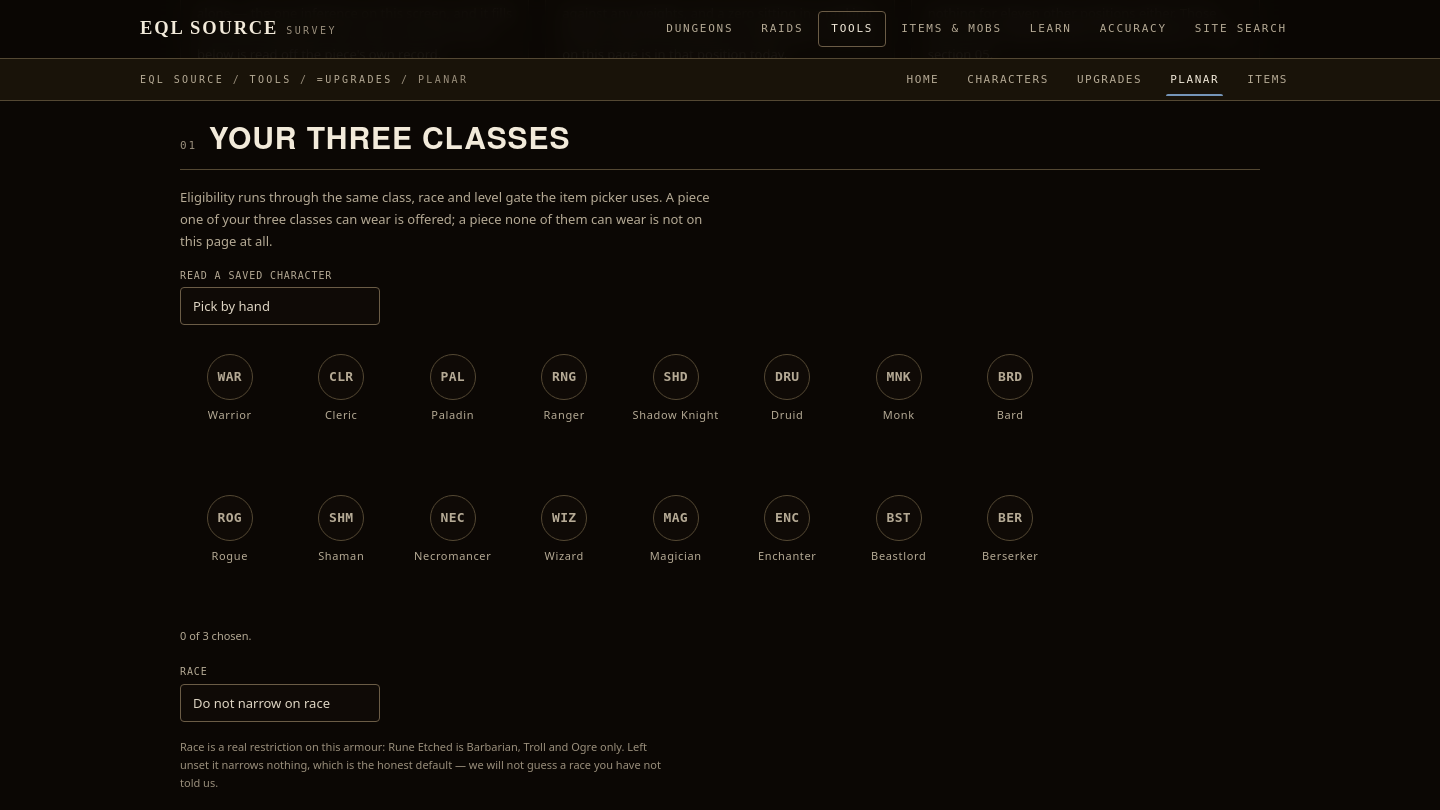
it: planar gear screen, against the shipped catalog › lets Wrist take two locks and drops the oldest at three
Later steps or results of the test are not shown.
(page scrolled)
Click the button with class "class-chip" showing "WAR Warrior": (230, 406) x1=180 y1=341 x2=280 y2=470
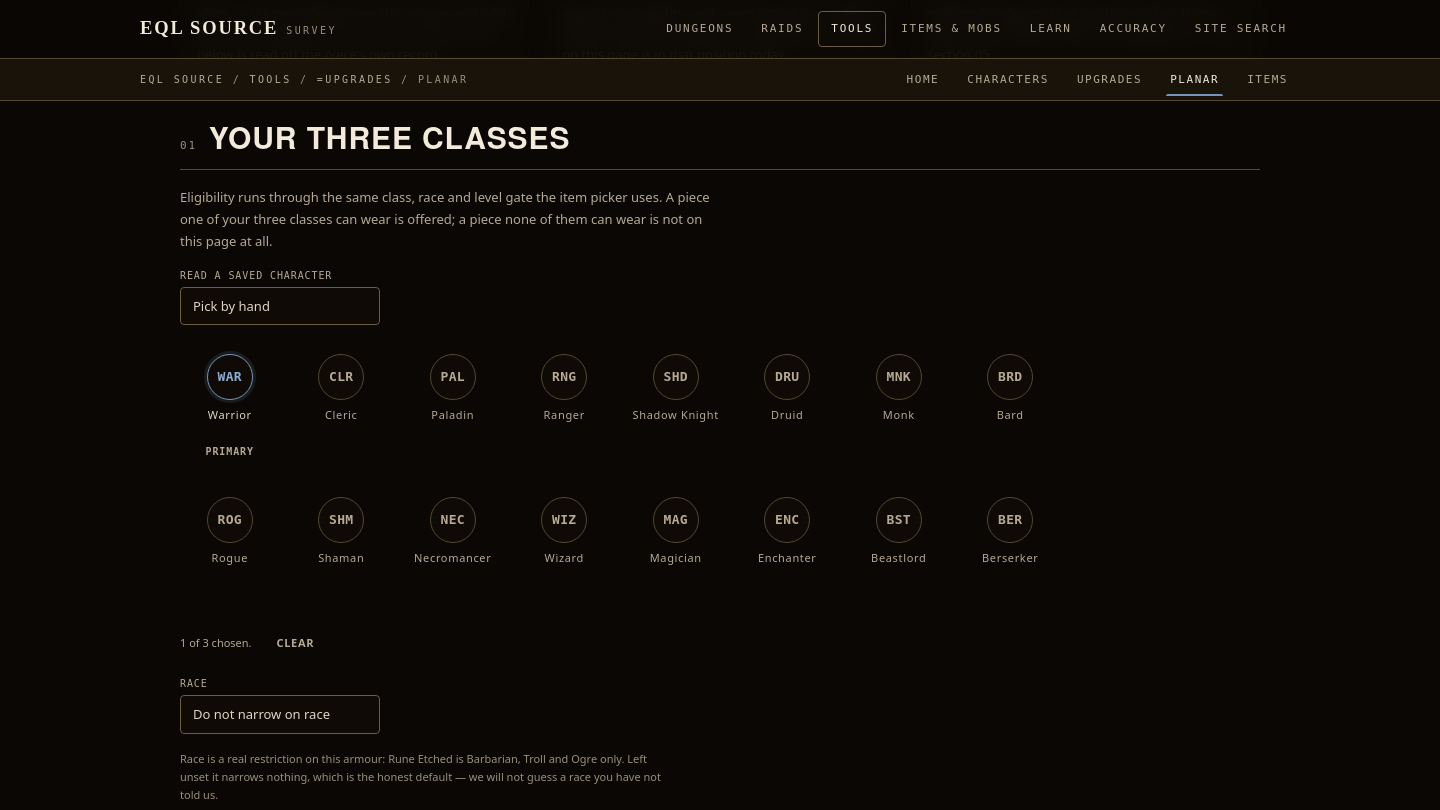
Click the button with class "class-chip" showing "BRD Bard": (1010, 407) x1=960 y1=341 x2=1060 y2=472
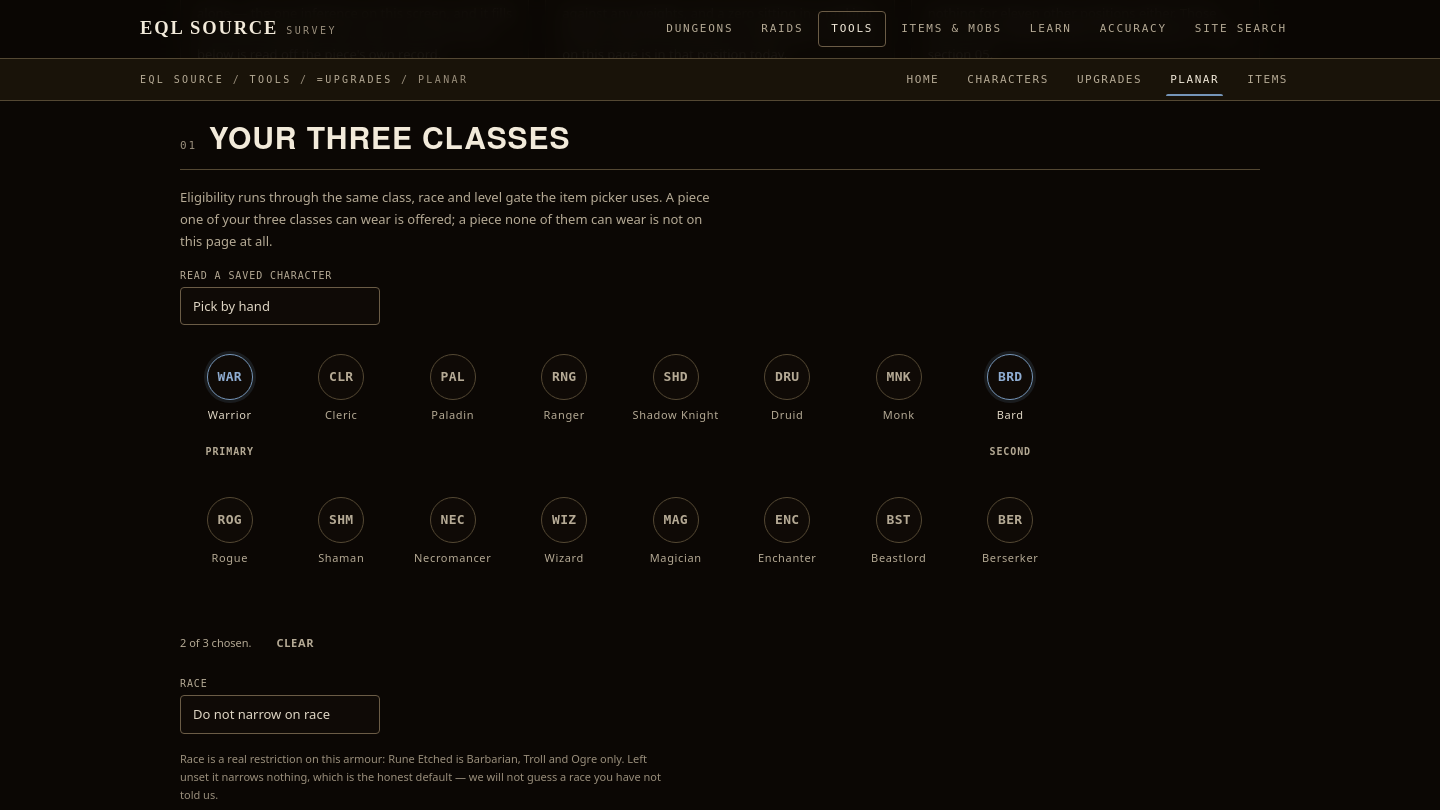
Click the button with class "class-chip" showing "BER Berserker": (1010, 549) x1=960 y1=484 x2=1060 y2=613
(page scrolled)
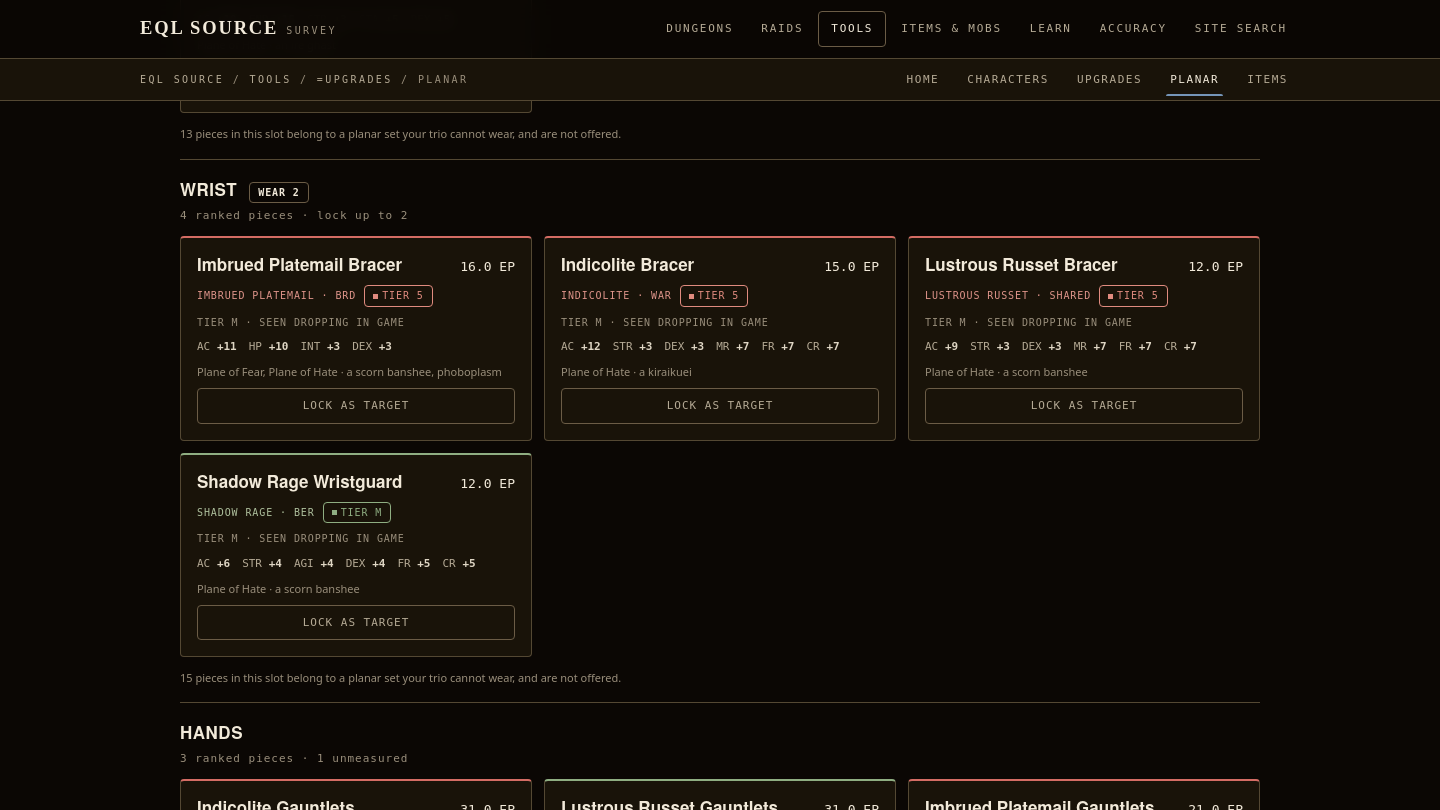
Now the element that starts with "Wrist" shows "wear 2", box x1=180 y1=159 x2=1260 y2=686
